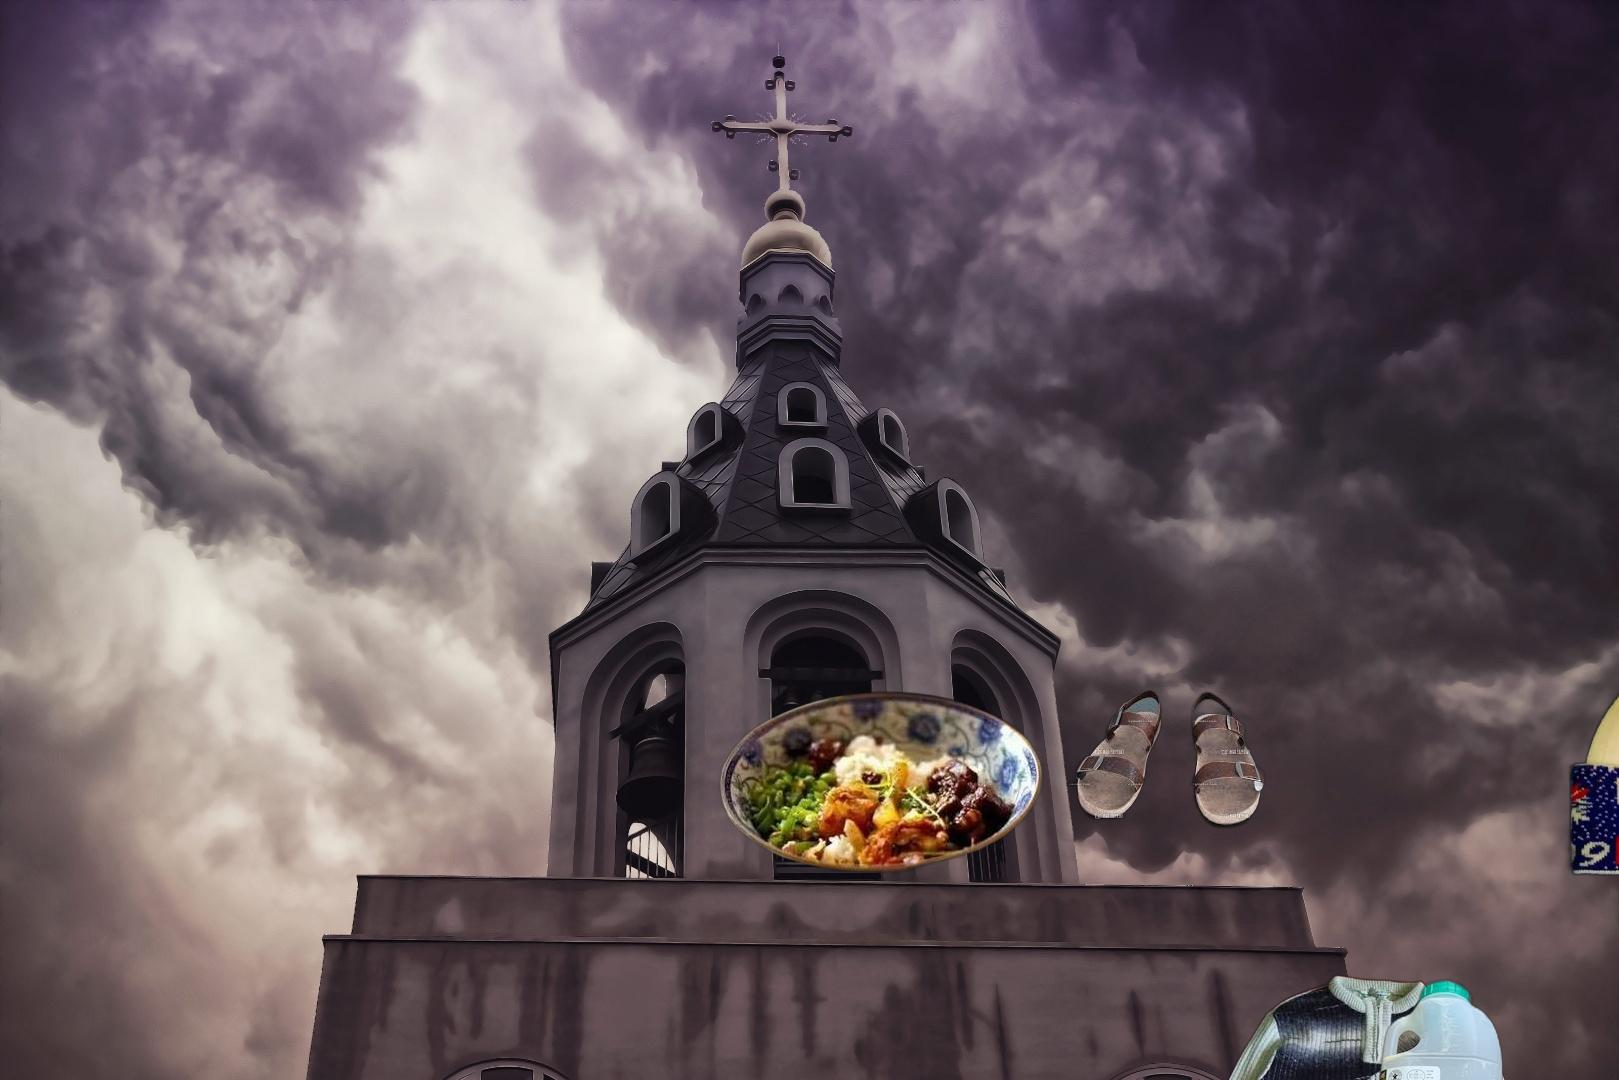biological: (717, 689, 1048, 893)
clothes: (1180, 972, 1554, 1080), (1559, 635, 1619, 885)
plastic-bottles: (1368, 974, 1506, 1080)
shoes: (1062, 688, 1277, 852)
